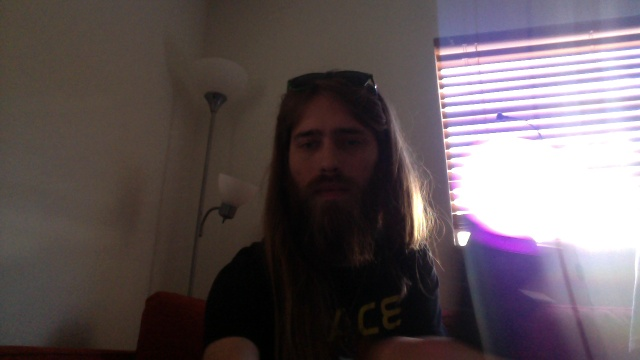wand: (460, 137, 562, 243)
